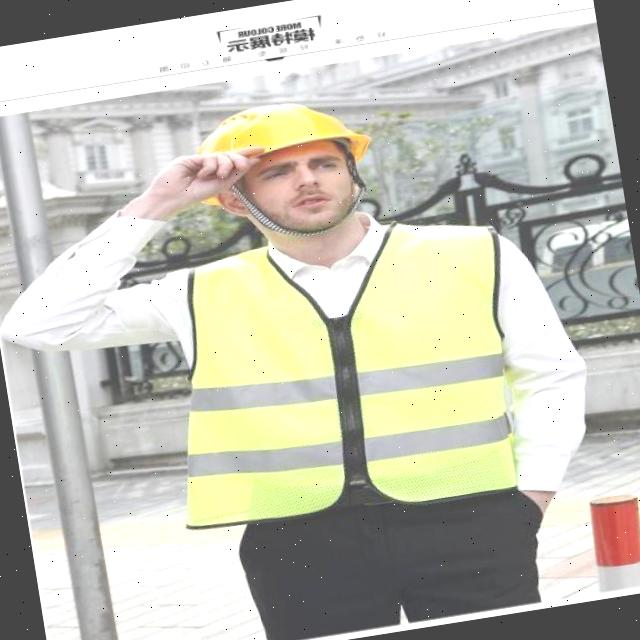vest: (174, 217, 530, 540)
